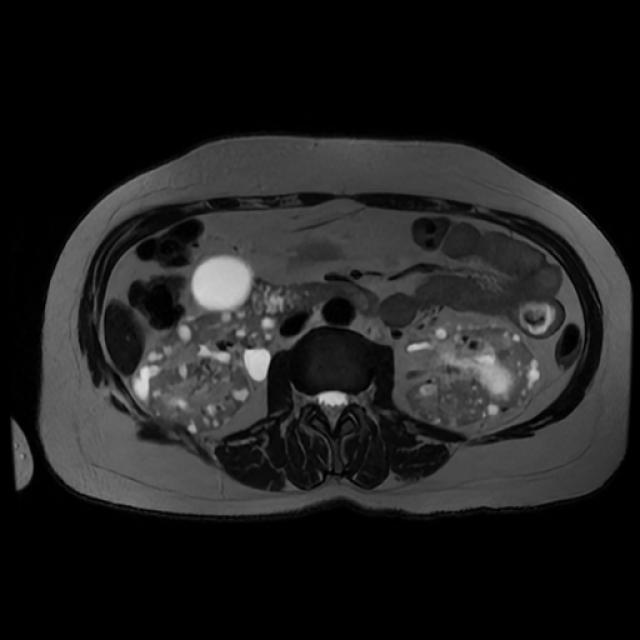sag: (136, 257, 274, 430)
sol: (408, 327, 539, 424)
